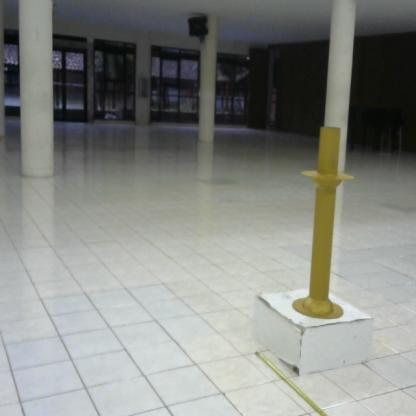pole: (296, 121, 355, 325)
